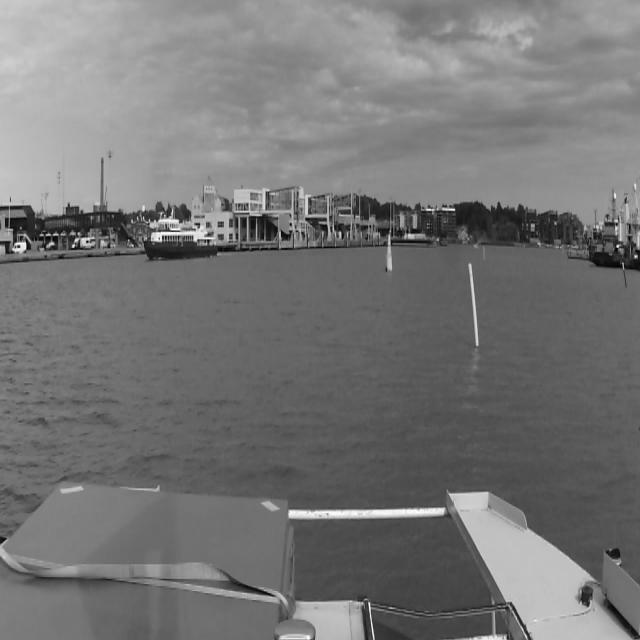buoy: (468, 263, 478, 348), (386, 234, 393, 268), (482, 243, 484, 264)
ship: (590, 186, 640, 272), (145, 218, 217, 260)
